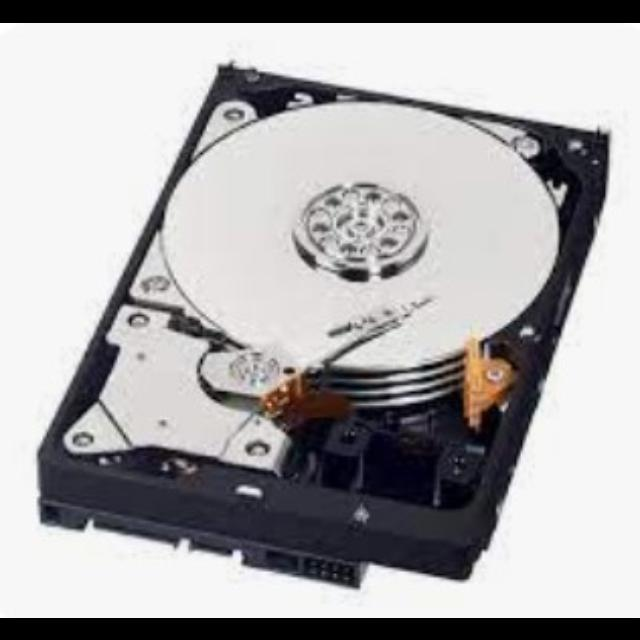HDD: (36, 65, 614, 589)
